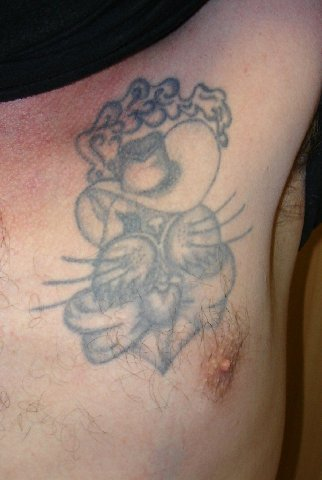tatu8_kot: (57, 79, 251, 378)
